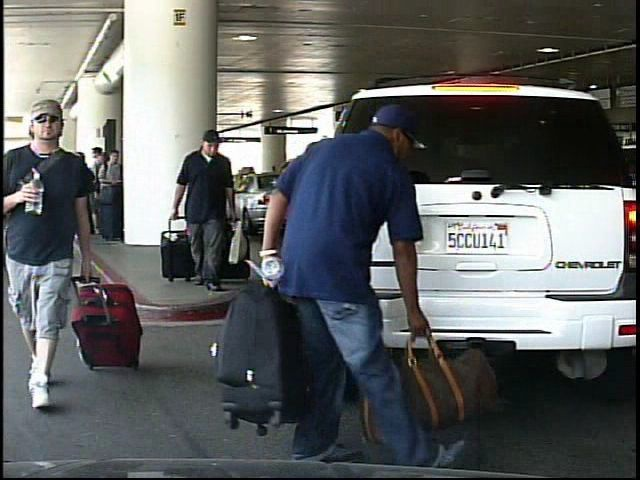person: (257, 76, 431, 470), (5, 96, 106, 410), (170, 129, 243, 294)
